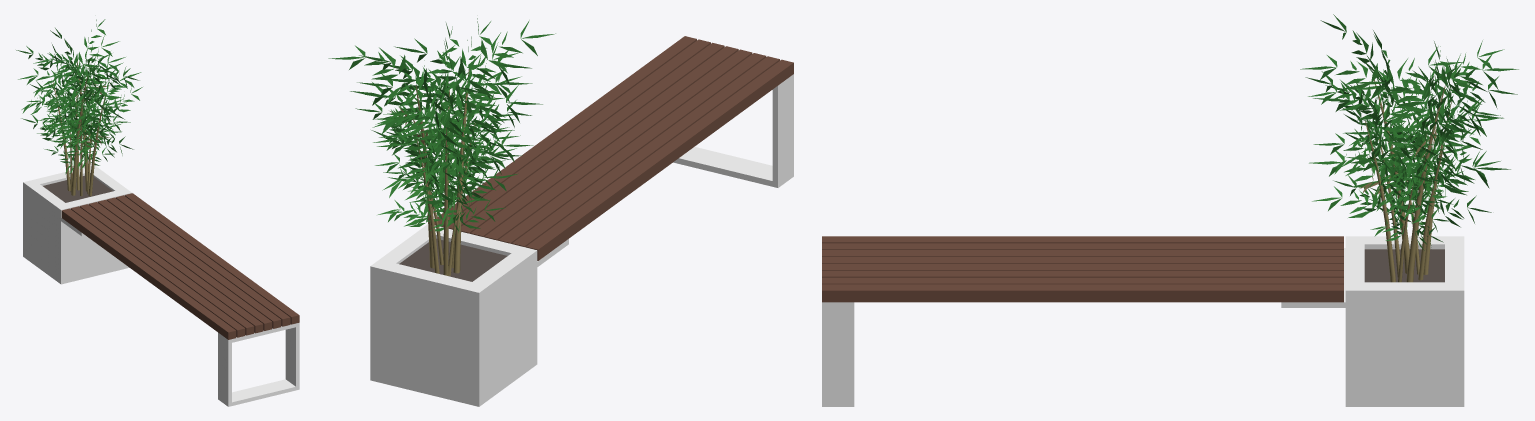
The model's file is Bench01.fbx.
3 views of the same model, side by side, from view 1: azimuth 30°, elevation 25°; view 2: azimuth 150°, elevation 25°; view 3: azimuth 270°, elevation 25° (orthographic). The views are drawn at different scales.
Visible parts, largest first — view 1: Model; view 2: Model; view 3: Model.
Boxes of the visible parts, <box> form: Model: <box>16,19,299,406</box>; Model: <box>328,18,793,406</box>; Model: <box>822,14,1518,406</box>.
Bounding box in the file's own units: 0.661 × 1.19 × 2.18.
